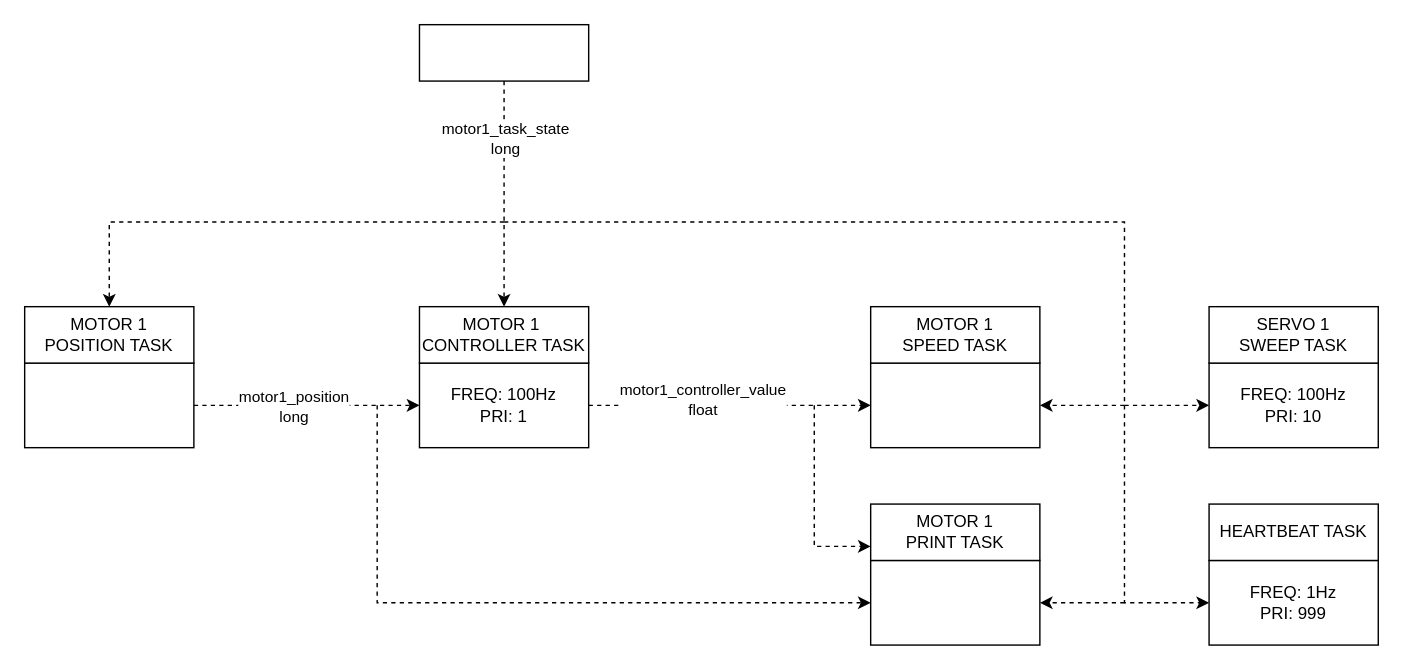
The diagram is 1403 pixels wide and 670 high, and some of its shapes have lost their labels. The centre of each missing label's shape, as x and y in pixels:
FREQ: 100Hz PRI: 2: (x=108, y=405)
FREQ: 100Hz PRI: 3: (x=954, y=405)
FREQ: 100Hz PRI: 4: (x=954, y=602)
User Input: (x=503, y=52)
